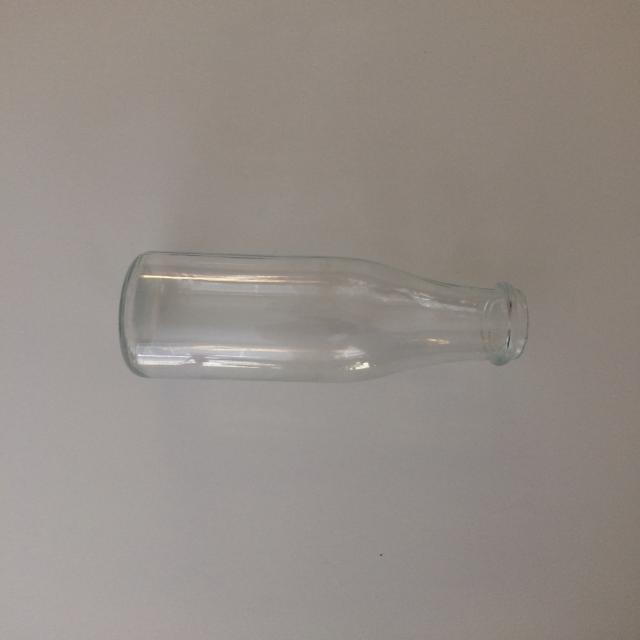glass: (118, 250, 530, 383)
